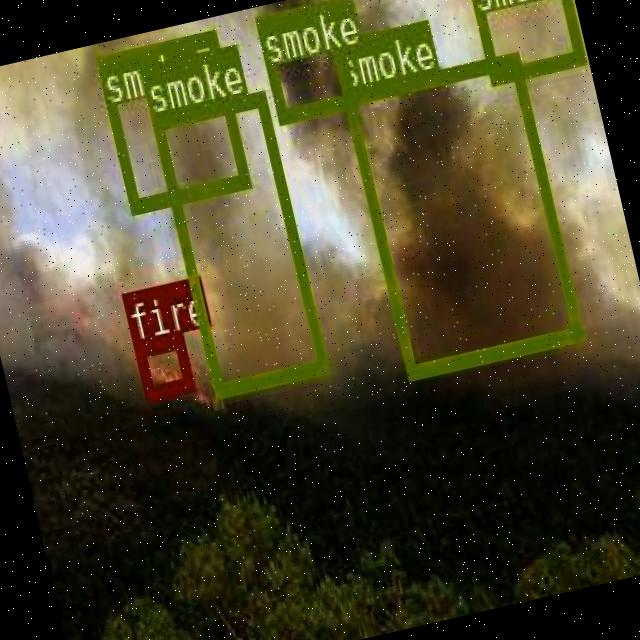fire: (130, 330, 192, 398)
smoke: (339, 49, 581, 378), (149, 89, 327, 397), (93, 28, 248, 210), (253, 0, 354, 120), (461, 0, 583, 81)
